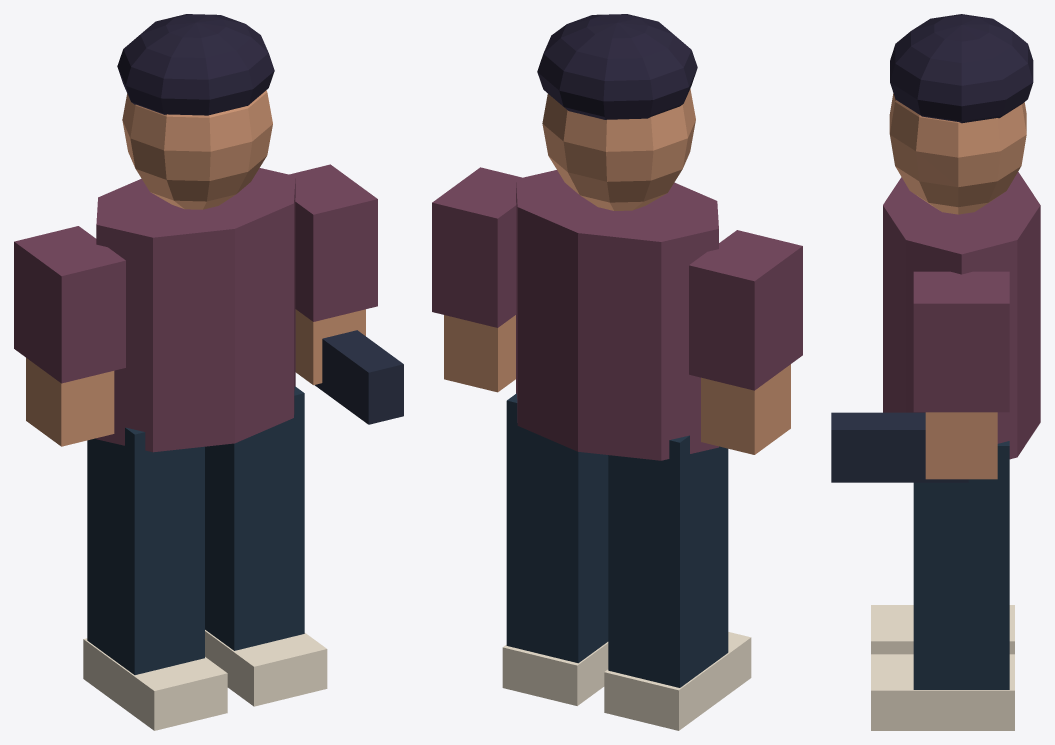
File: character-guard.obj
3 views of the same model, side by side, from view 1: azimuth 30°, elevation 25°; view 2: azimuth 150°, elevation 25°; view 3: azimuth 270°, elevation 25° (orthographic).
Visible parts, largest first — view 1: character-guard; view 2: character-guard; view 3: character-guard.
Boxes of the visible parts, bbox=[...] form: character-guard: bbox=[14, 14, 403, 730]; character-guard: bbox=[432, 14, 802, 730]; character-guard: bbox=[831, 14, 1040, 730].
Bounding box in the file's own units: 1.08 × 2.14 × 0.61.
